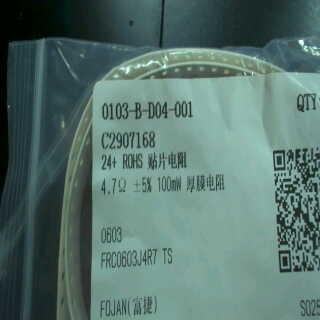4.7R: (100, 176, 131, 195)
